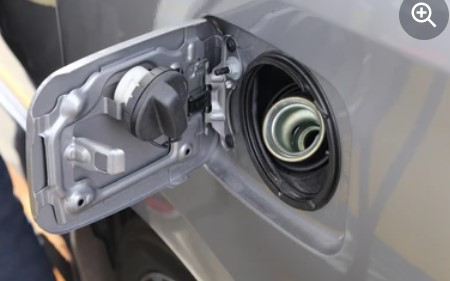open: (199, 10, 359, 251)
